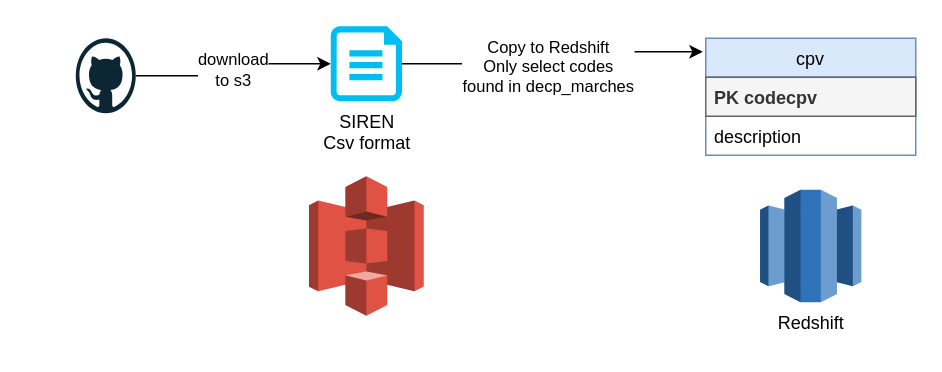
The diagram is 942 pixels wide and 372 high, and some of its shapes have lost their labels. Here are the shapes that lost their labels. From the top down, the centre of each, then its label:
At pixel 105 75: "File in github project".
At pixel 366 245: "S3".
